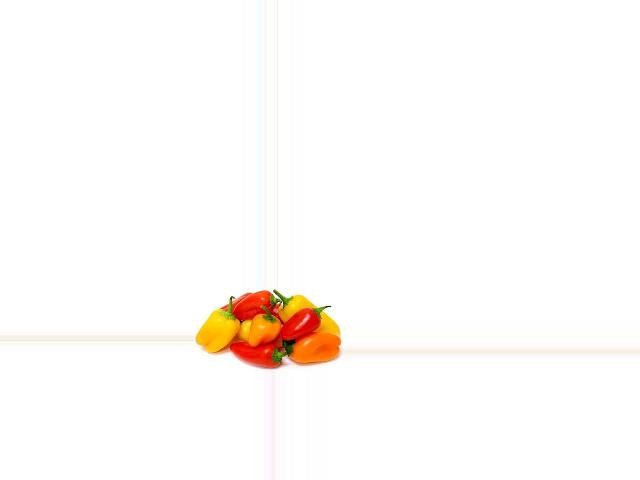bell_pepper: (278, 291, 339, 335)
